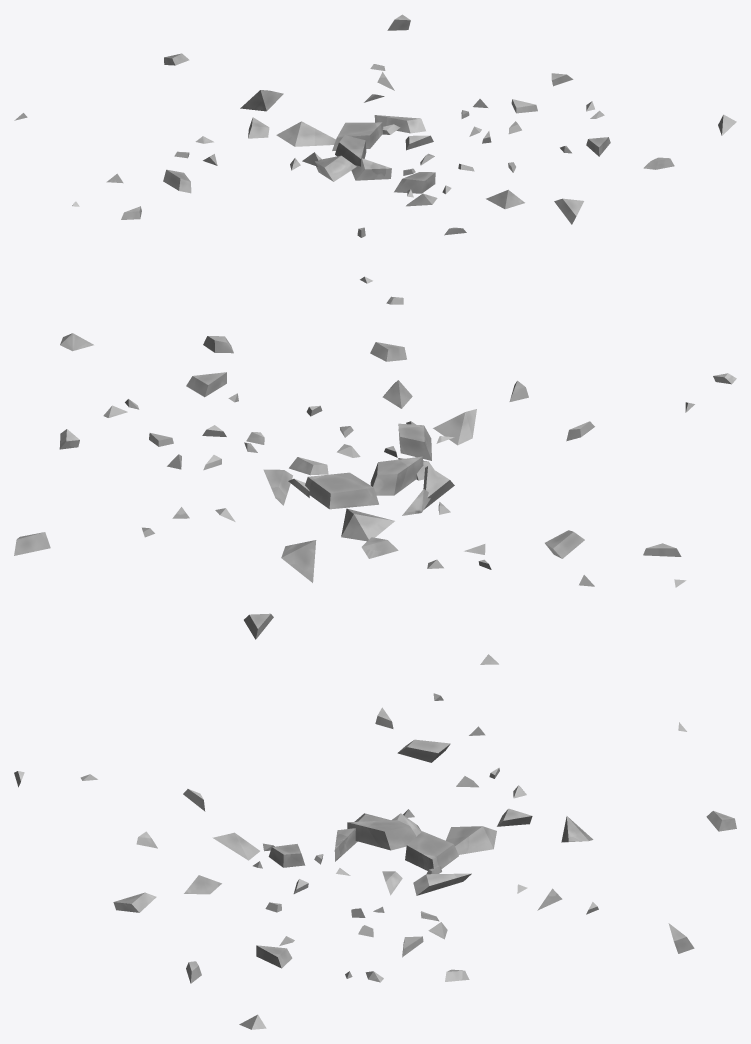
Rendered from sculpted_pebbles_06.glb.
The picture shows the model from 3 angles, top to bottom: view 1: azimuth 30°, elevation 25°; view 2: azimuth 150°, elevation 25°; view 3: azimuth 270°, elevation 25°; orthographic projection. The views are drawn at different scales.
Parts seen in each view (by area): view 1: sculpted_pebbles_06; view 2: sculpted_pebbles_06; view 3: sculpted_pebbles_06.
Boxes of the visible parts, box(x1,y1,x2,y2) form: sculpted_pebbles_06: box(14, 14, 736, 304); sculpted_pebbles_06: box(14, 333, 736, 664); sculpted_pebbles_06: box(14, 693, 736, 1029).
Bounding box in the file's own units: 1.34 × 0.0574 × 1.22.
1 material, 1 textured.
